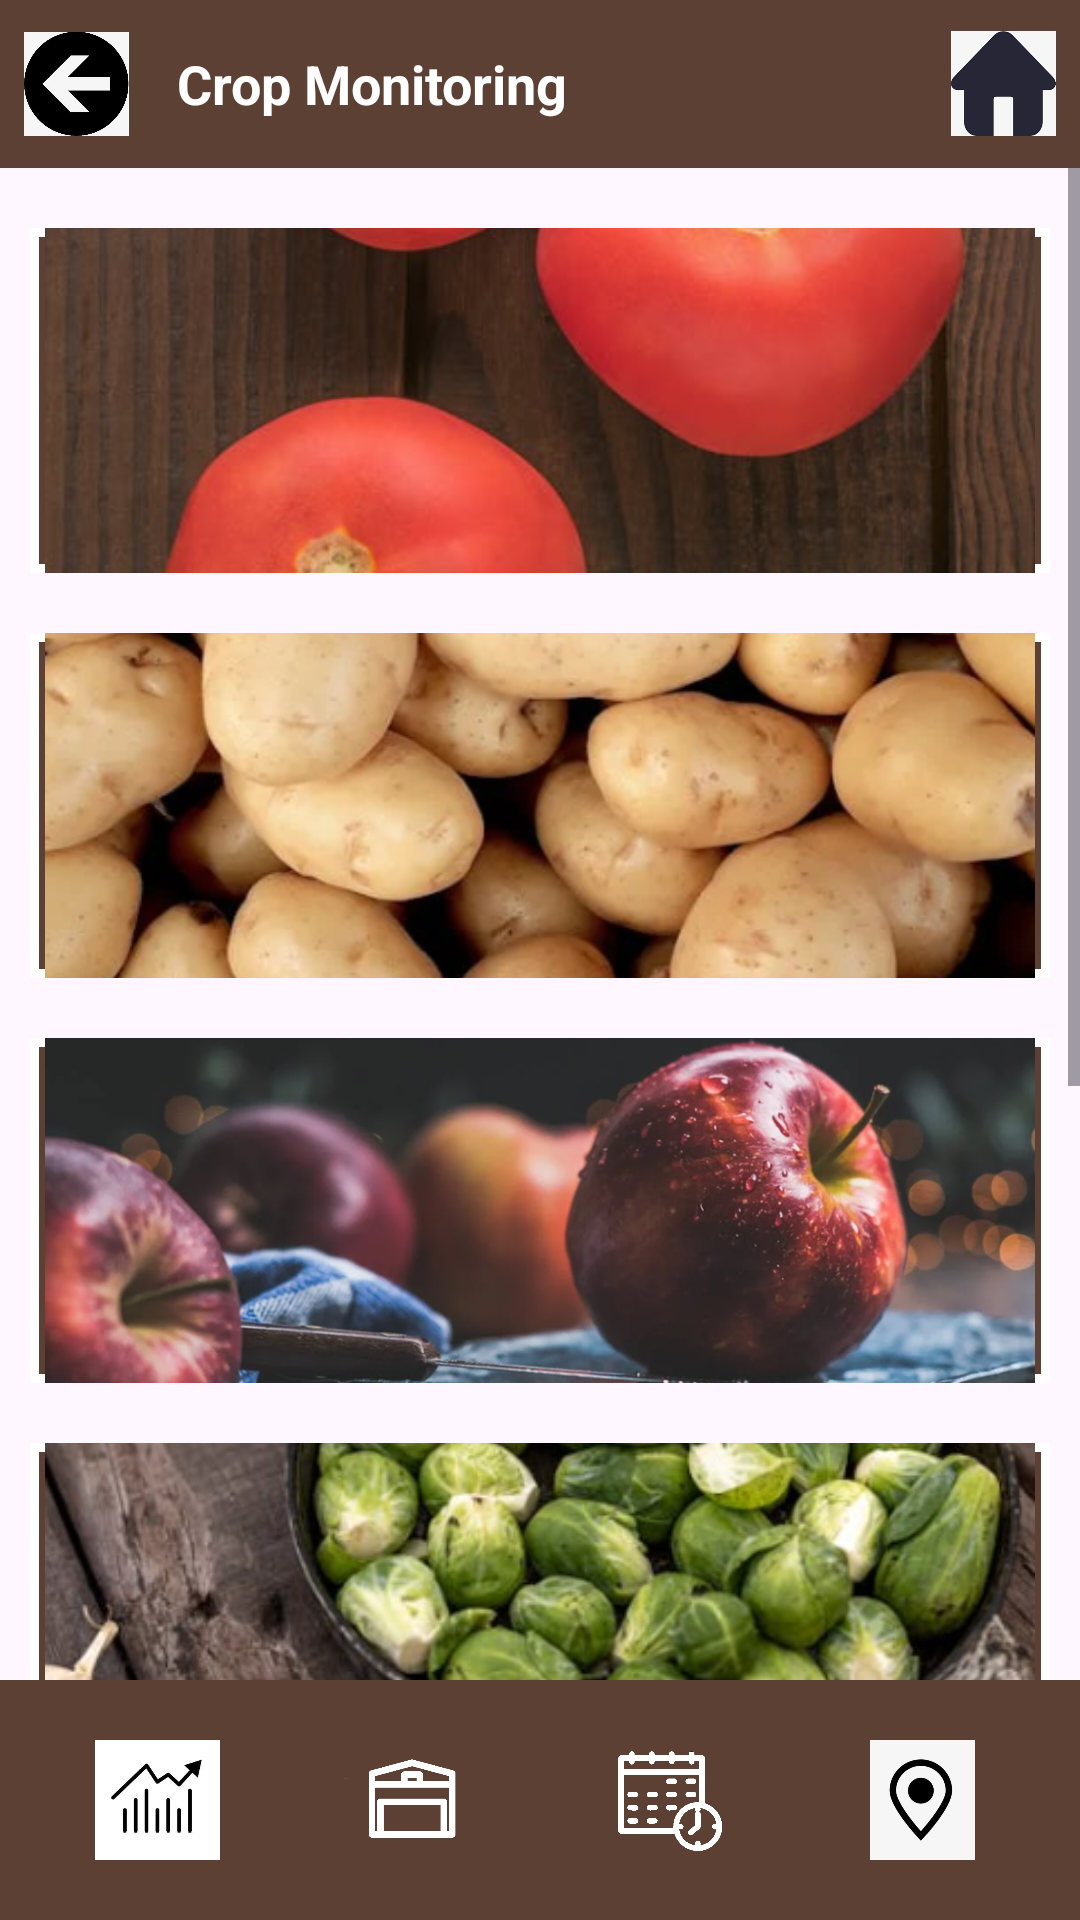

Icons on this 1080px×1920px Android screen, each with the point to tap as point (x, y):
Back: point (76, 84)
Inventory: point (412, 1798)
map: point (922, 1800)
task: point (670, 1801)
